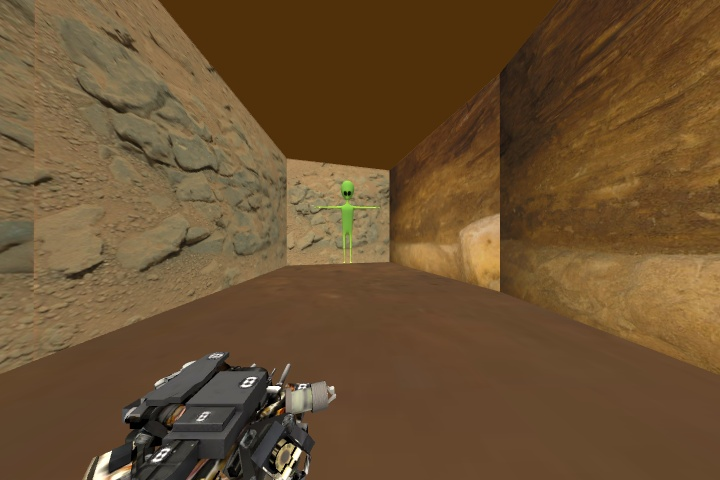alien: (312, 176, 384, 268)
